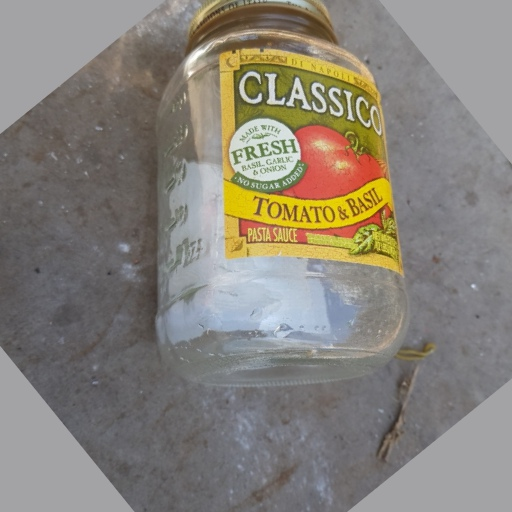Glass_5: (143, 2, 409, 384)
